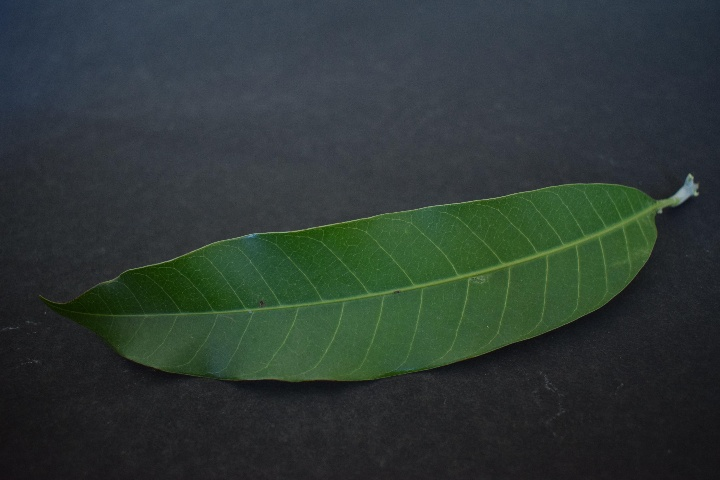healthy: (89, 179, 665, 392)
